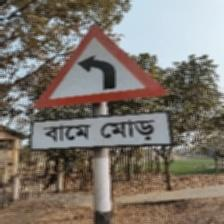Left-Turn: (30, 24, 173, 148)
